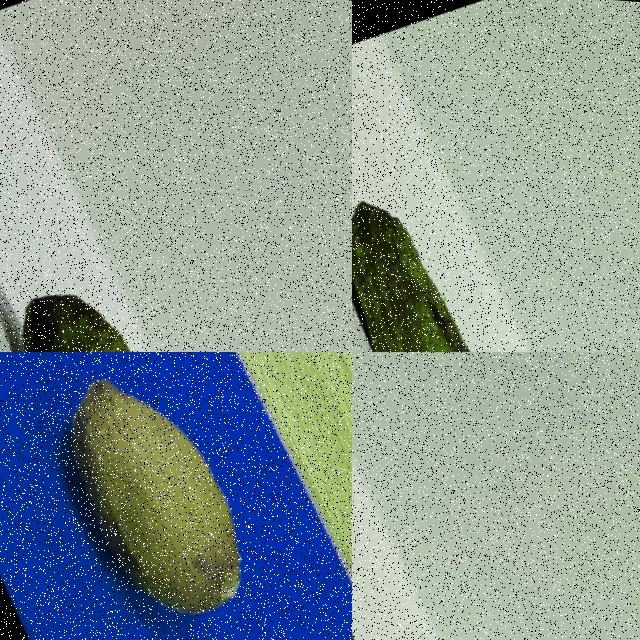Fine_cocoabeans: (0, 352, 321, 639)
Flat_cocoabeans: (352, 132, 582, 351), (0, 187, 209, 351), (352, 380, 470, 639)
